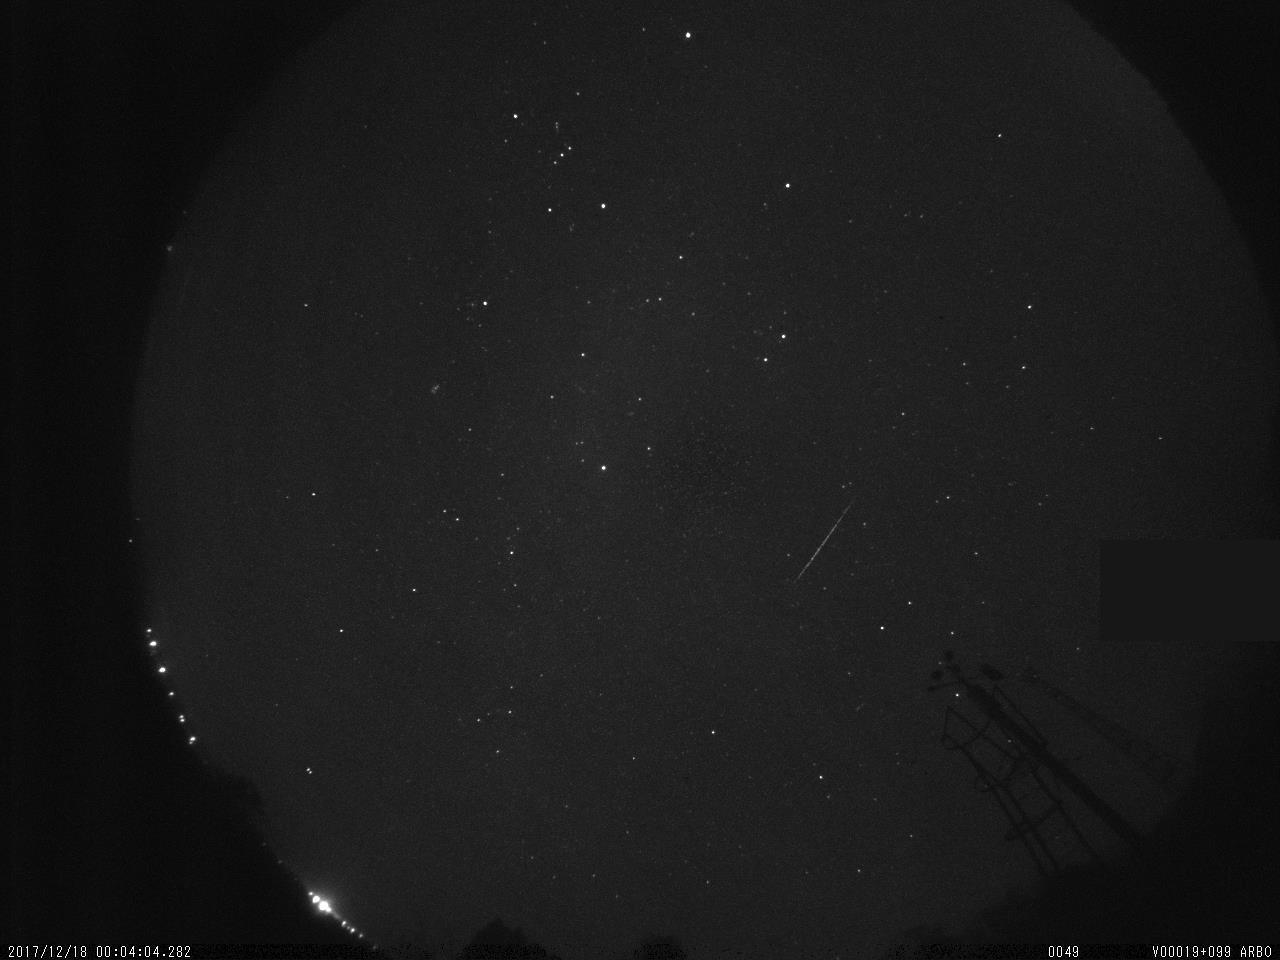meteor: (769, 471, 891, 606)
